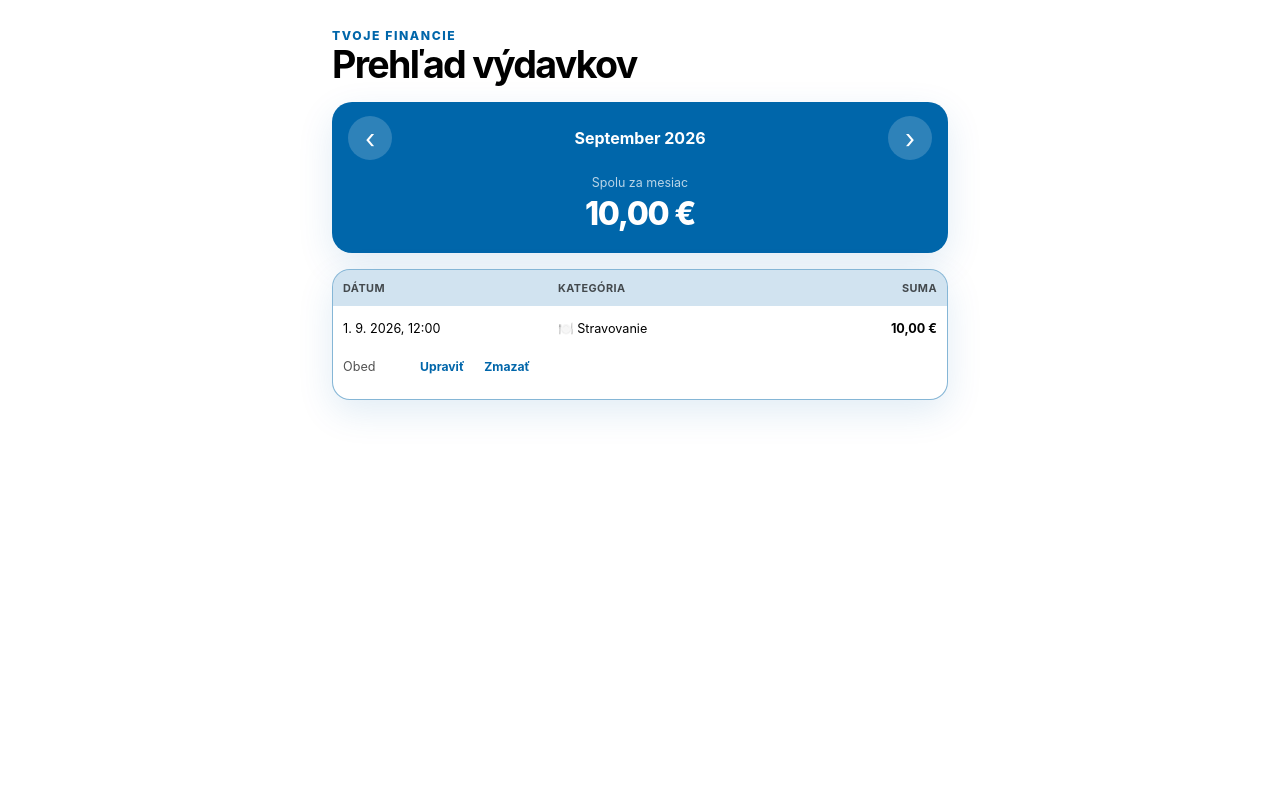
it: OverviewScreen › edits a record with the shared validated form
Click the button "Upraviť" at [442, 366], box [412,348,472,386]
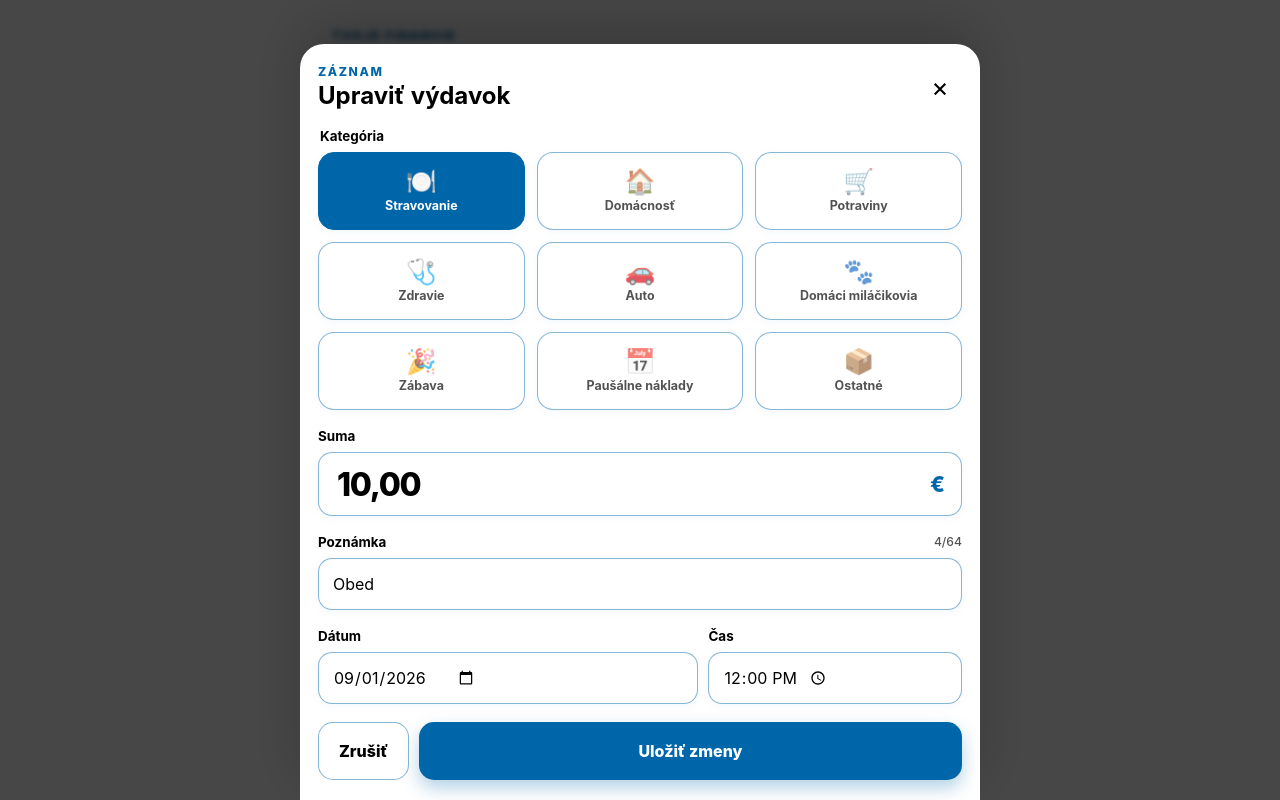
Replace the text in the field labelled "Suma" with "11,50" at [632, 484], box [335,453,930,515]
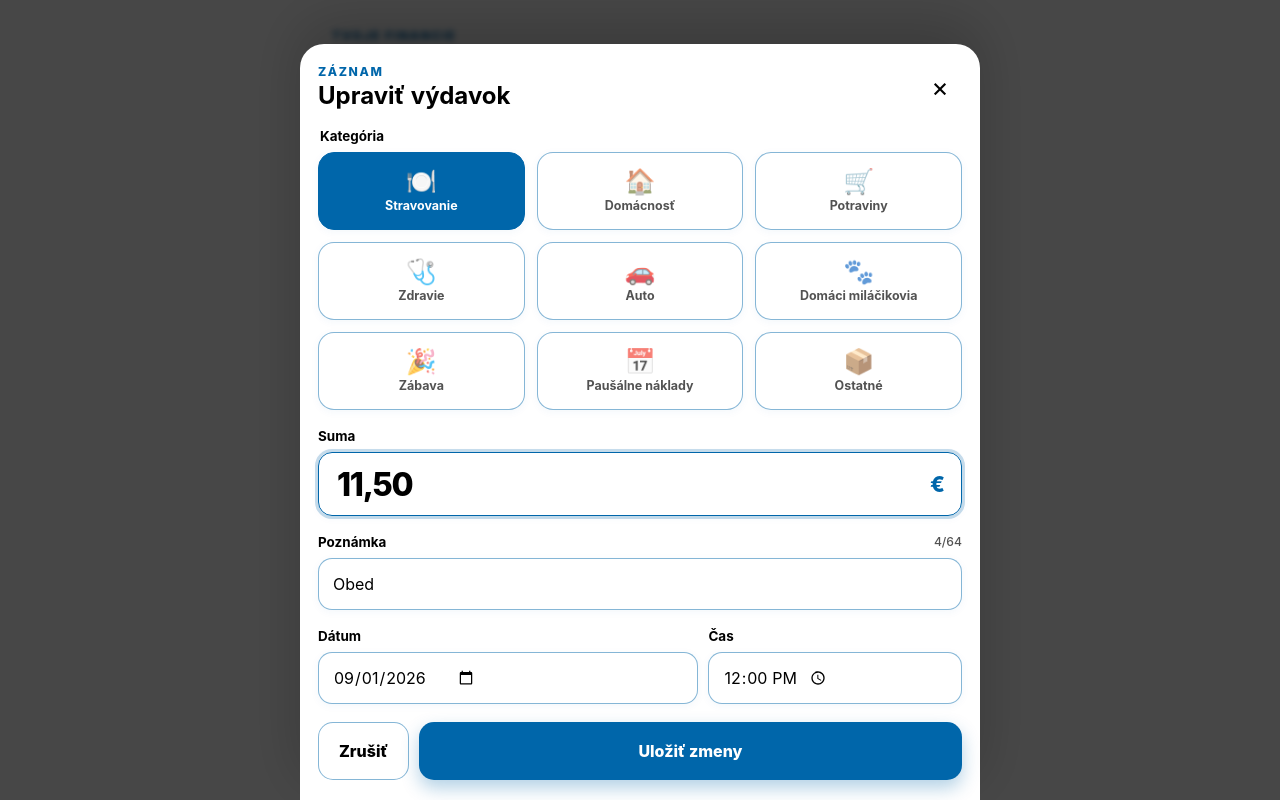
Click the button "Uložiť zmeny" at [690, 751], box [419,722,962,780]
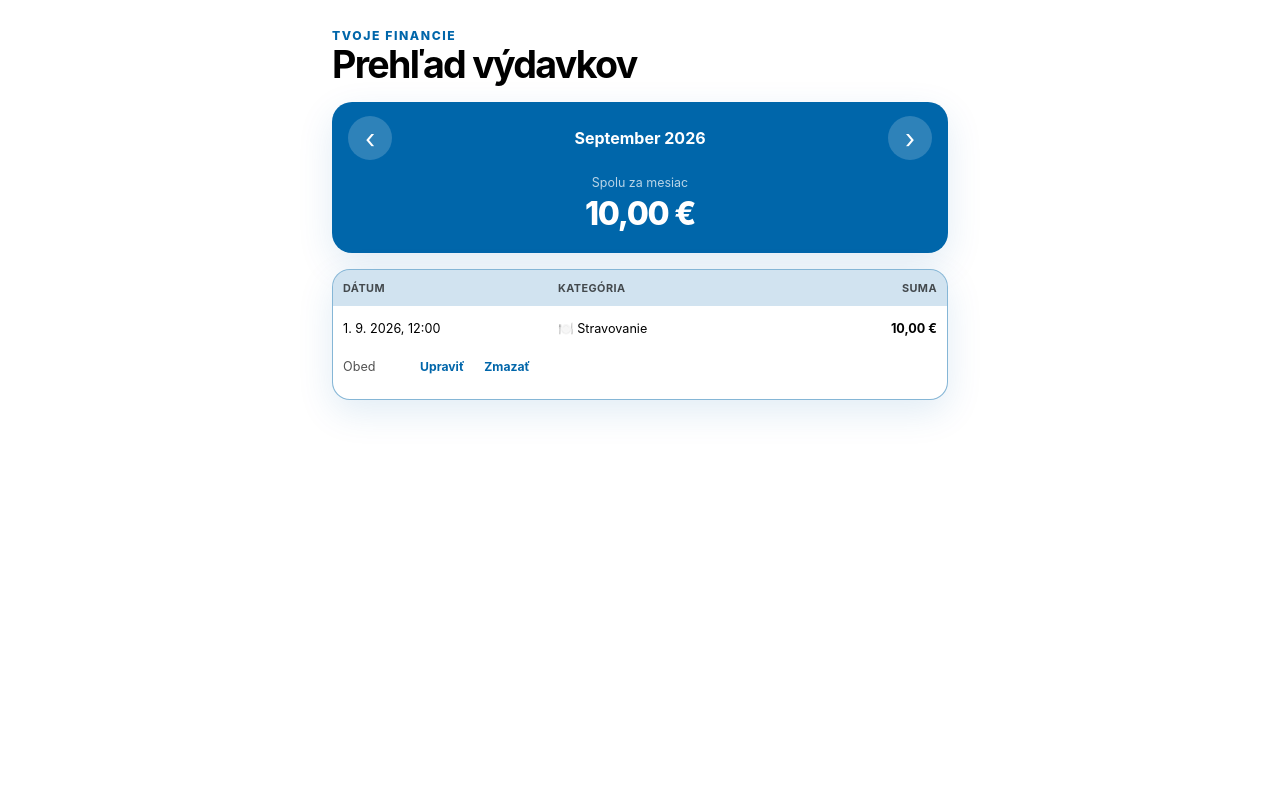
Expected: the dialog is gone
